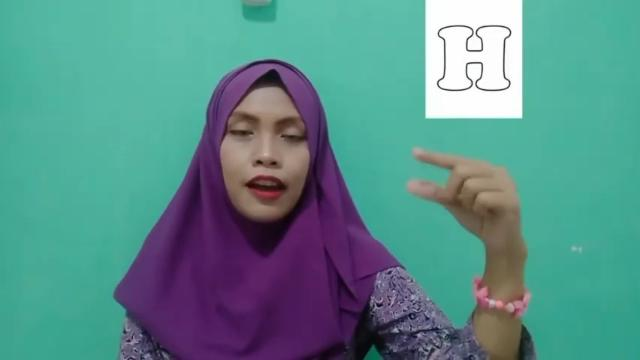G: (404, 149, 530, 249)
